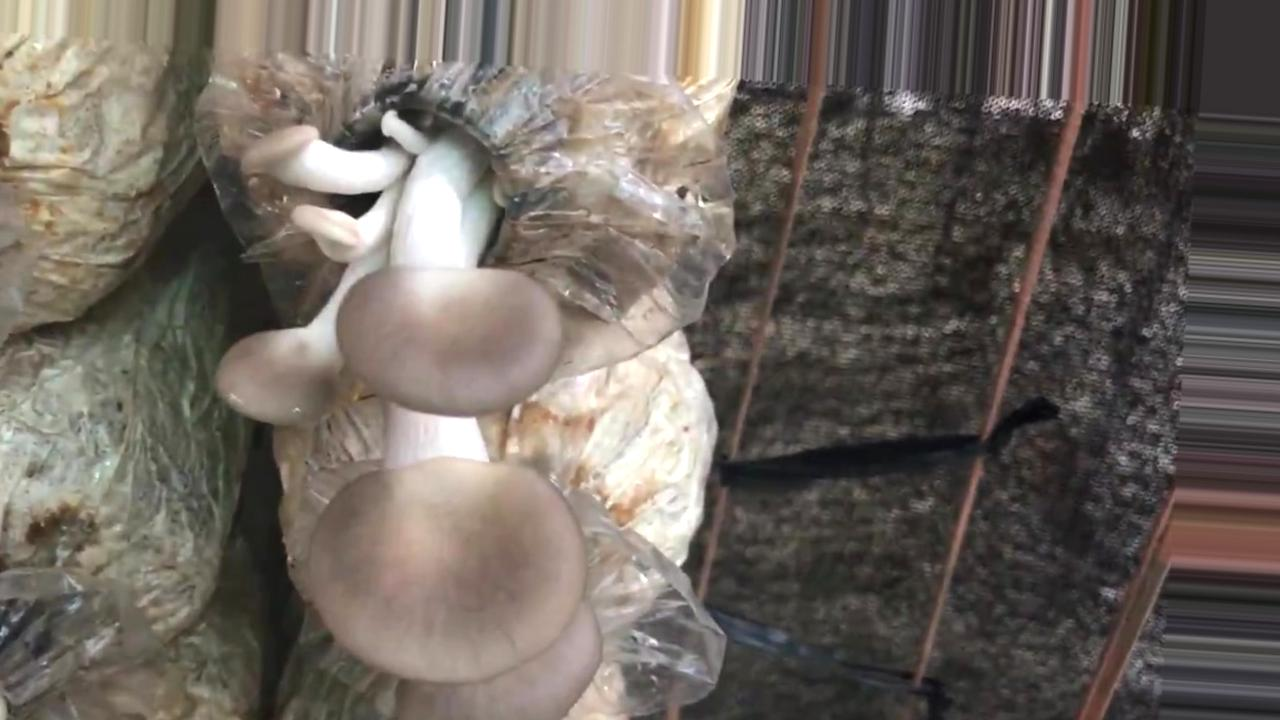nam: (214, 77, 589, 687), (393, 606, 602, 720)
